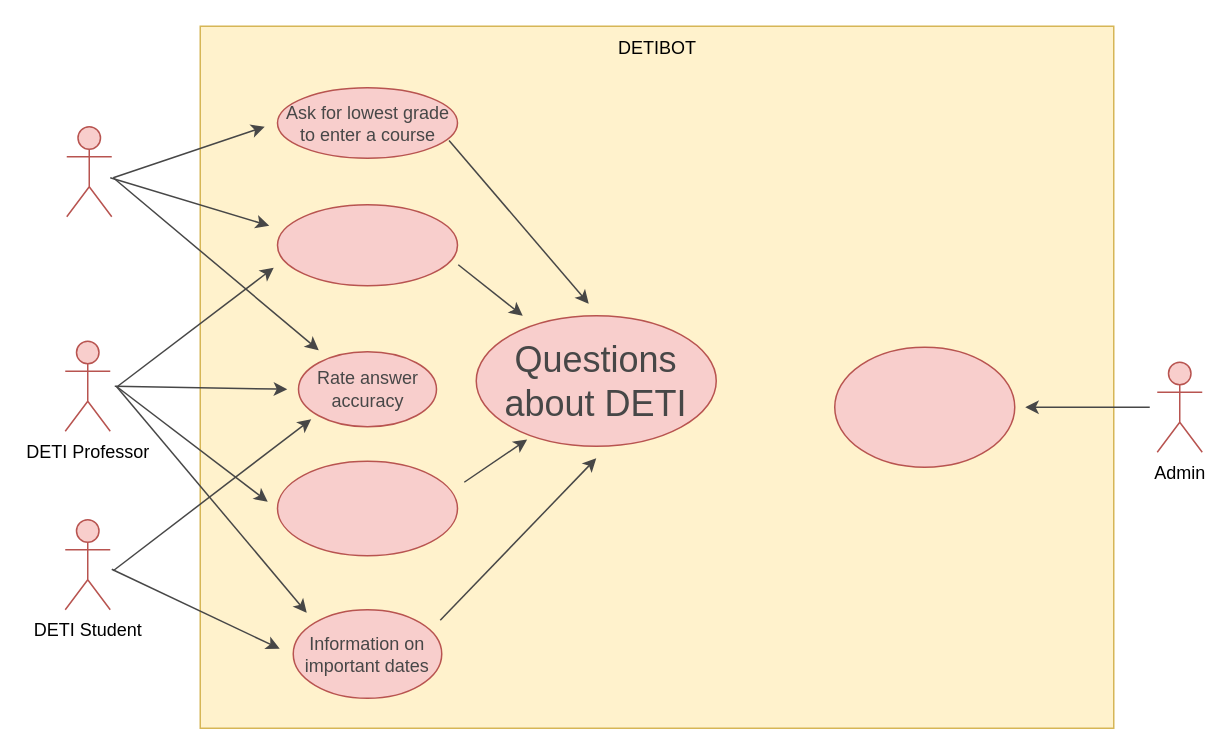
The diagram is 1230 pixels wide and 755 high, and some of its shapes have lost their labels. Here are the shapes that lost their labels. From the top down, the centre of each, then its label:
(88,171): Visitor
(367,244): Ask about DETI courses and its subjects
(924,406): Insert new knowlegde
(367,508): Ask who's the professor in charge of a subject
